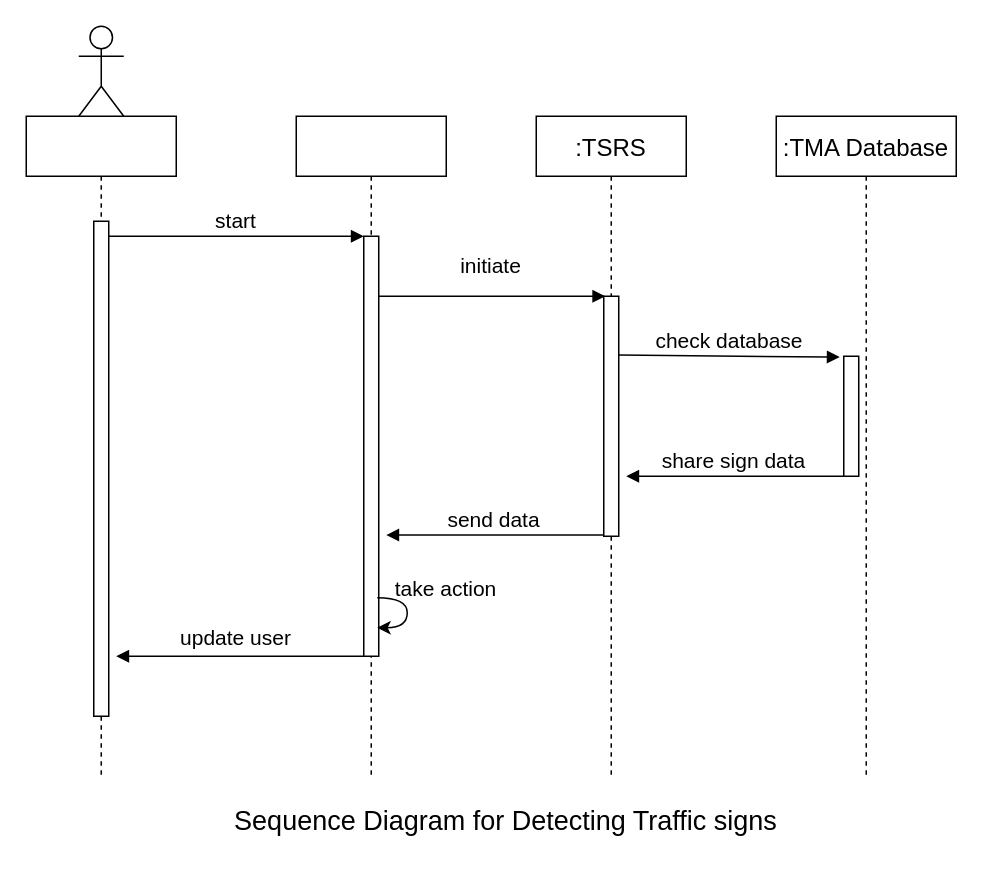
Some shapes in this 983 by 870 pixel diagram are drawn without their labels. Here are the shapes that lost their labels. From the top down, the box of each, then its label:
(25, 115, 176, 776): User
(295, 115, 446, 776): :Control Unit
